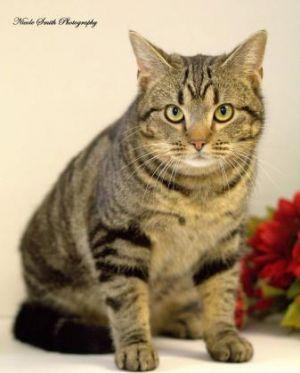bengal: (123, 26, 278, 181)
